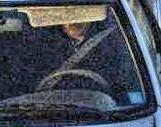seatbelt: (67, 22, 107, 66)
